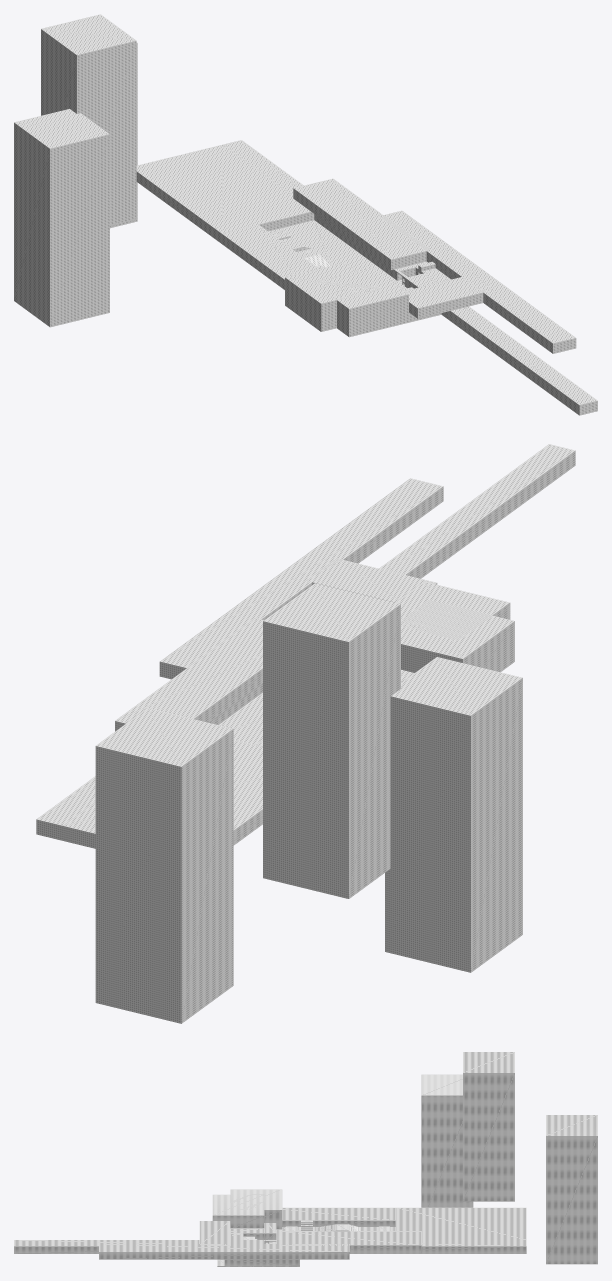
File: TestMap_01_merged.fbx
3 views of the same model, one above another, from view 1: azimuth 30°, elevation 25°; view 2: azimuth 150°, elevation 25°; view 3: azimuth 270°, elevation 25° (orthographic). The views are drawn at different scales.
Visible parts, largest first — view 1: TestMap_01; view 2: TestMap_01; view 3: TestMap_01.
Part boxes in pixels (box(x1,y1,x2,y2)): TestMap_01: box(14, 14, 597, 415); TestMap_01: box(36, 444, 575, 1023); TestMap_01: box(14, 1052, 597, 1266).
Bounding box in the file's own units: 213 × 160 × 494.
